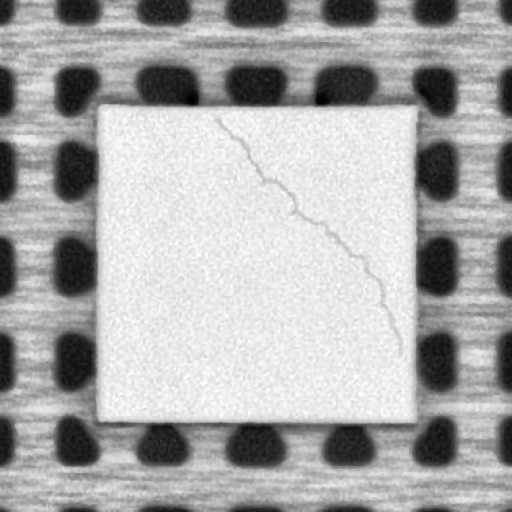DIE_CRACK: (214, 116, 398, 349)
